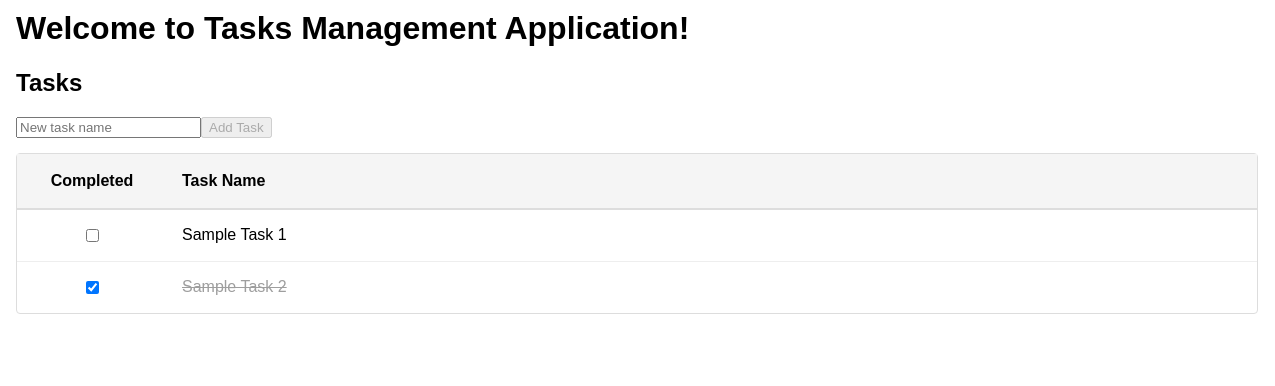
Test: API Integration Tests › should handle API errors gracefully
In the field with placeholder "New task name": (109, 128) [16, 117, 201, 138], type "Error Test Task"
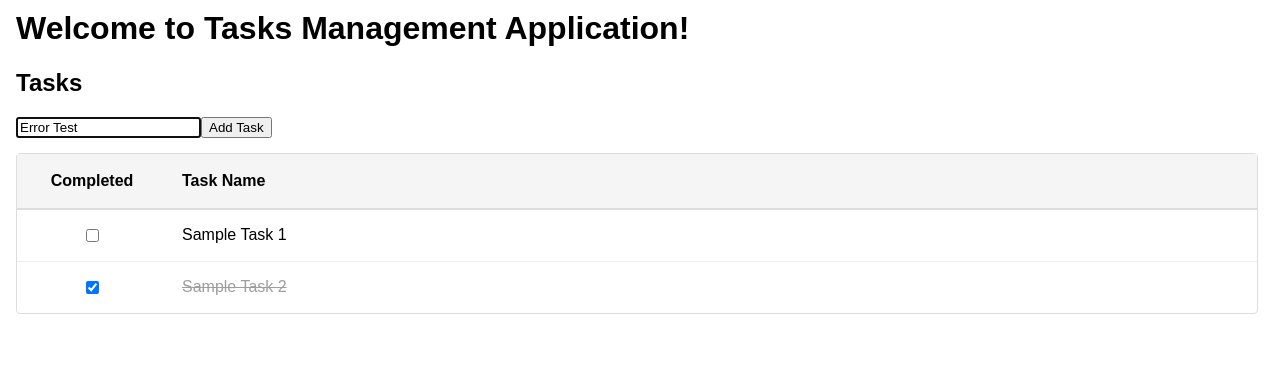
Click the button "Add Task": (237, 128) [201, 117, 272, 138]
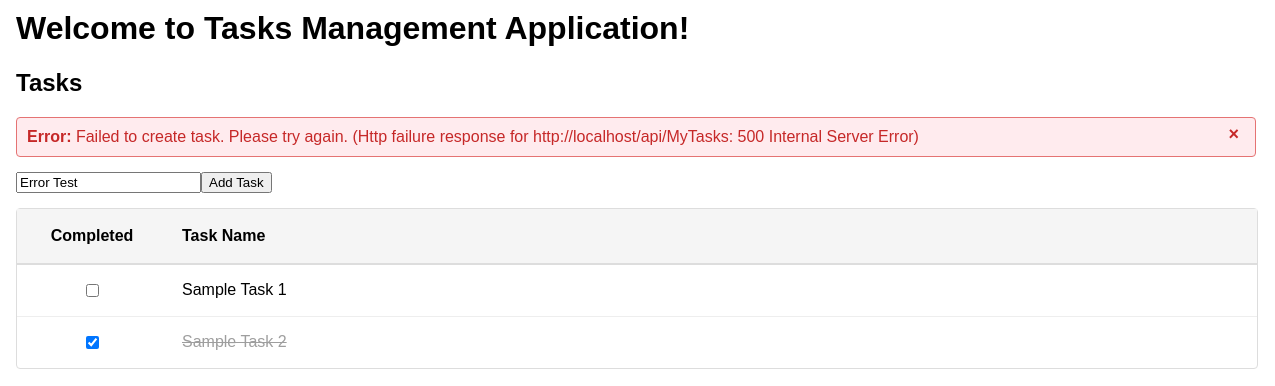
Check: the element with class "error-message" is shown, box [16, 117, 1256, 157]
Check: the text "Error:" is shown, box [27, 128, 72, 145]
